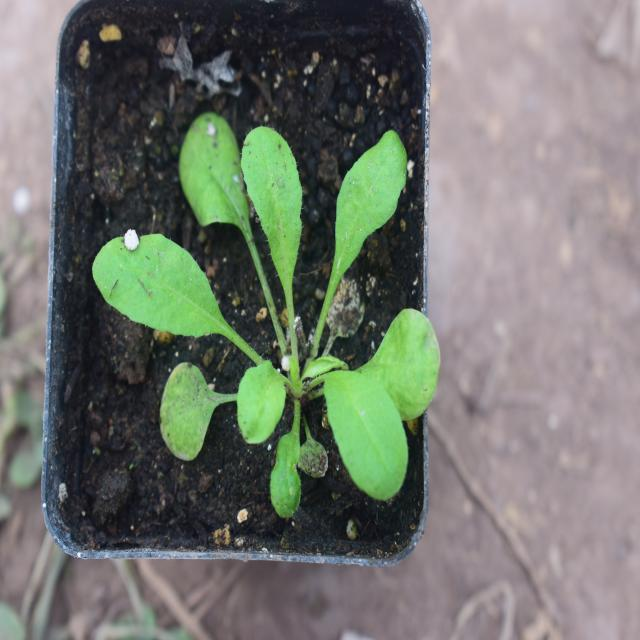Shepherd_Purse: (105, 126, 426, 483)
